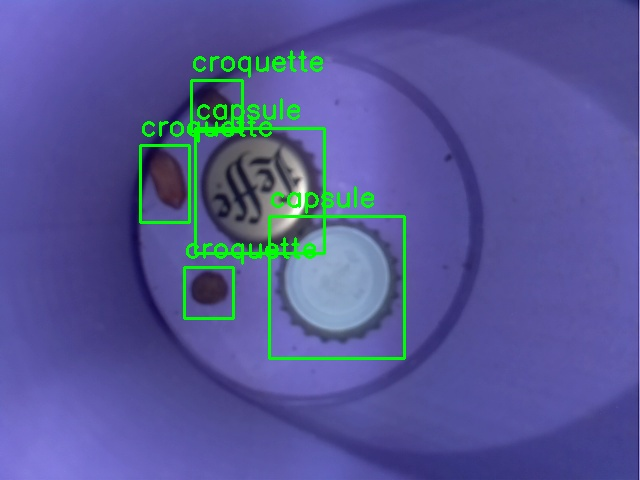capsule: (269, 216, 404, 358), (195, 128, 324, 253)
croquette: (140, 145, 189, 222), (191, 80, 242, 131), (184, 267, 233, 318)
